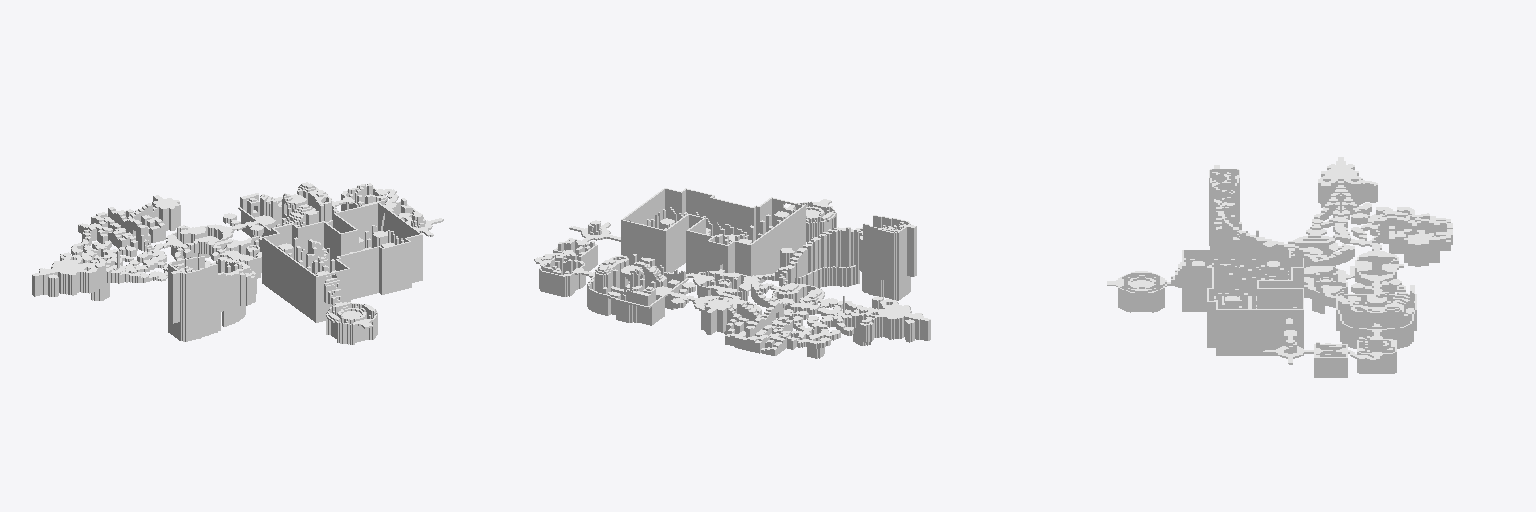
Rendered from Level05-1.obj.
The picture shows the model from 3 angles: view 1: azimuth 30°, elevation 25°; view 2: azimuth 150°, elevation 25°; view 3: azimuth 270°, elevation 25°; orthographic projection.
Parts seen in each view (by area): view 1: object 1; view 2: object 1; view 3: object 1.
Part boxes in pixels (x1,y1,x2,y2): object 1: (32, 182, 443, 344); object 1: (534, 188, 930, 358); object 1: (1107, 157, 1452, 377).
Size of the model in its own units: 23.6 by 4 by 18.4.